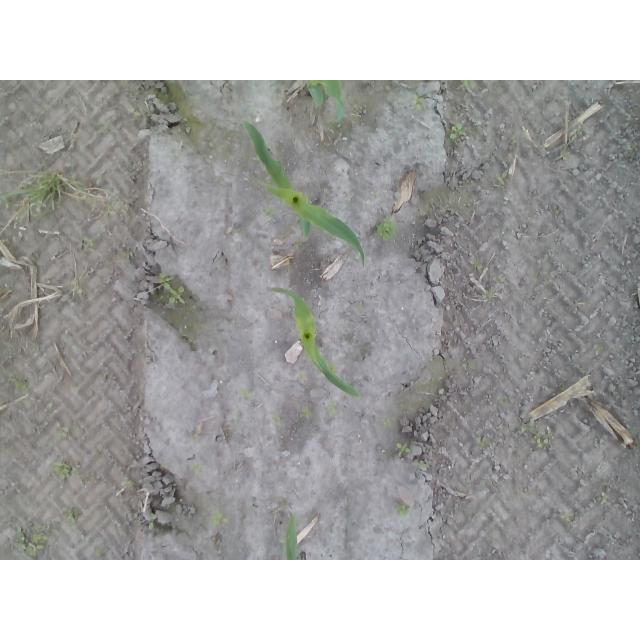Maize: (238, 116, 367, 269), (269, 283, 362, 401), (300, 80, 349, 121), (285, 512, 300, 561)
Weeds: (12, 518, 51, 560), (155, 269, 185, 305), (519, 421, 552, 450), (374, 218, 398, 242), (483, 275, 505, 301), (51, 460, 73, 480), (209, 511, 232, 530), (53, 418, 79, 434), (183, 110, 198, 134), (395, 440, 412, 461), (495, 171, 513, 189), (448, 123, 466, 141), (473, 432, 492, 449), (12, 377, 33, 392), (391, 500, 409, 517), (62, 505, 79, 523), (323, 398, 338, 418), (413, 93, 428, 111), (127, 106, 142, 123), (239, 387, 254, 401), (32, 199, 47, 213), (192, 460, 209, 472), (592, 341, 606, 355), (595, 491, 609, 505), (462, 80, 480, 90), (300, 407, 313, 420), (412, 458, 428, 468), (103, 200, 113, 216), (0, 194, 10, 210), (270, 414, 282, 427), (2, 348, 14, 361), (559, 511, 573, 522), (495, 394, 513, 402), (628, 140, 640, 152), (83, 236, 96, 247), (148, 515, 157, 530), (381, 416, 392, 428), (325, 358, 337, 369), (549, 207, 563, 216), (471, 259, 482, 270), (96, 547, 107, 558), (576, 123, 584, 137), (262, 207, 274, 216), (73, 286, 84, 295), (561, 152, 572, 161), (94, 176, 103, 185)
